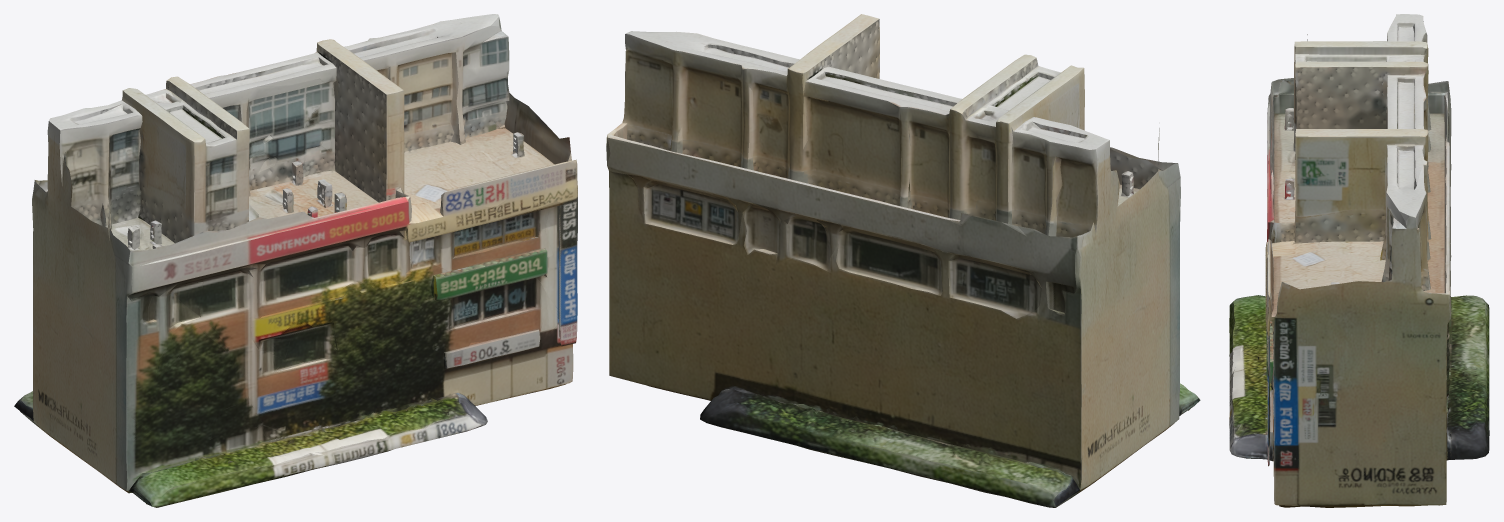
The model's file is ruin_block.glb.
3 renders of one model, left to right at view 1: azimuth 30°, elevation 25°; view 2: azimuth 150°, elevation 25°; view 3: azimuth 270°, elevation 25°, orthographic. The views are drawn at different scales.
Visible parts, largest first — view 1: world; view 2: world; view 3: world.
Part boxes in pixels (x1,y1,x2,y2): world: (14, 14, 577, 507); world: (606, 14, 1200, 507); world: (1229, 14, 1489, 507).
Bounding box in the file's own units: 0.9992 × 0.6933 × 0.5416.
1 material, 1 textured.
